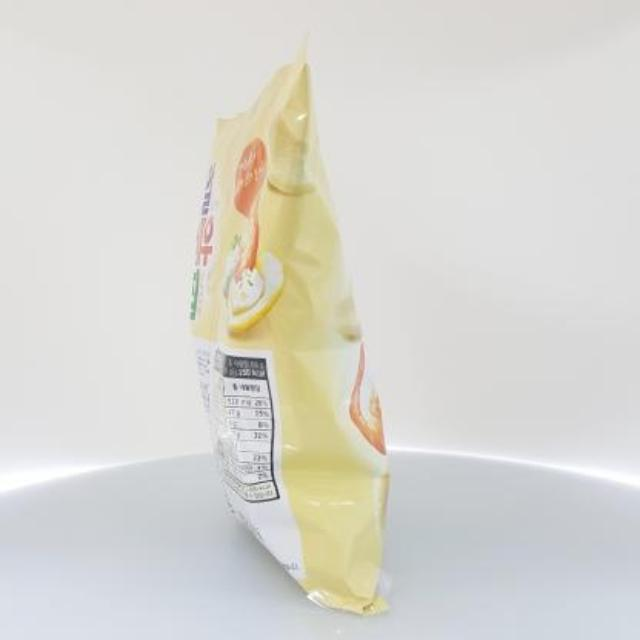snack_bag: (175, 25, 418, 637)
